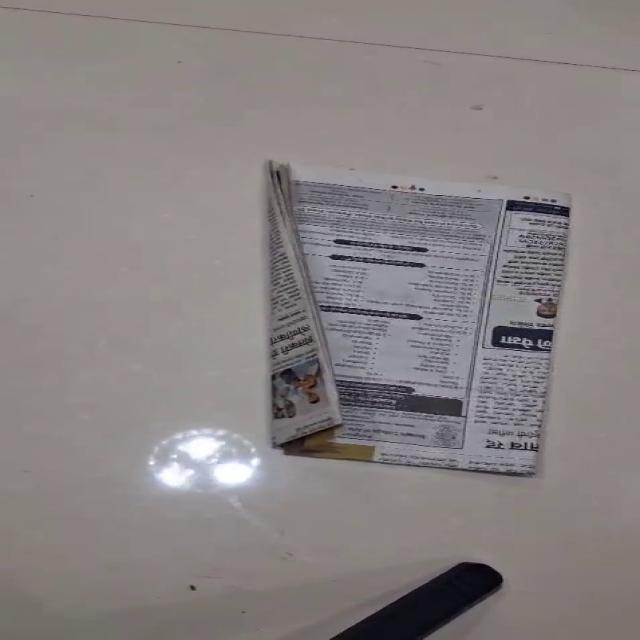paper: (266, 160, 573, 476)
